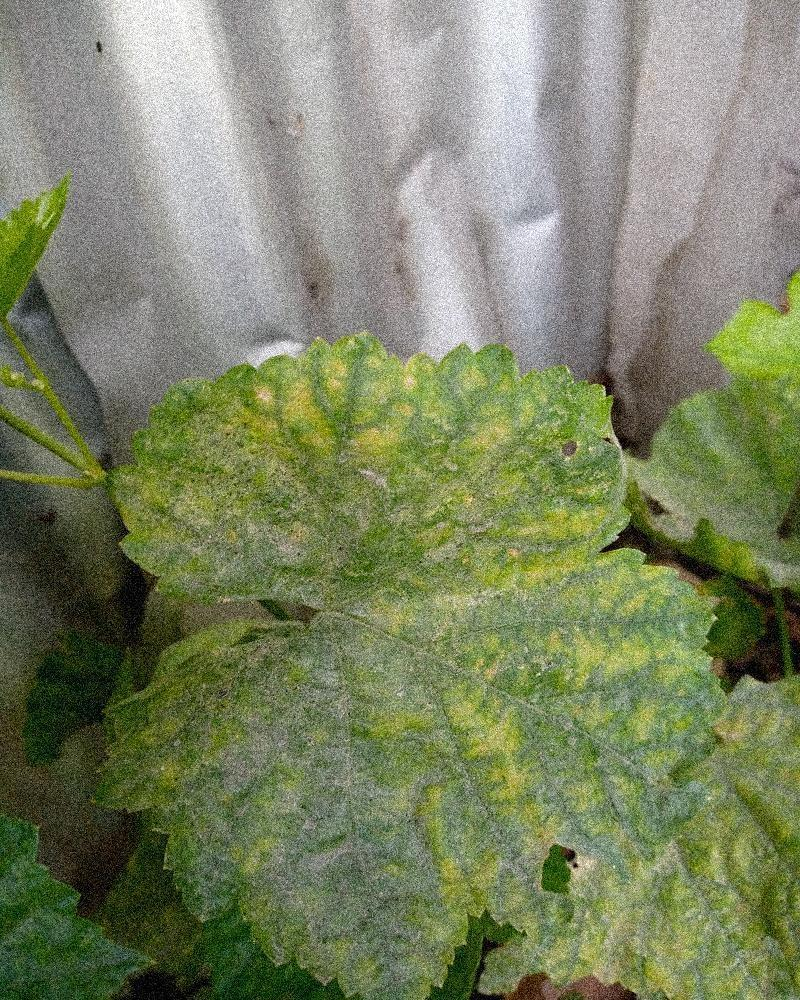Powdery-Mildew: (205, 663, 393, 926), (500, 507, 705, 700), (347, 511, 497, 714), (170, 485, 322, 606), (454, 371, 534, 501), (448, 688, 532, 810), (277, 378, 336, 456), (348, 415, 401, 467), (351, 425, 400, 466)
